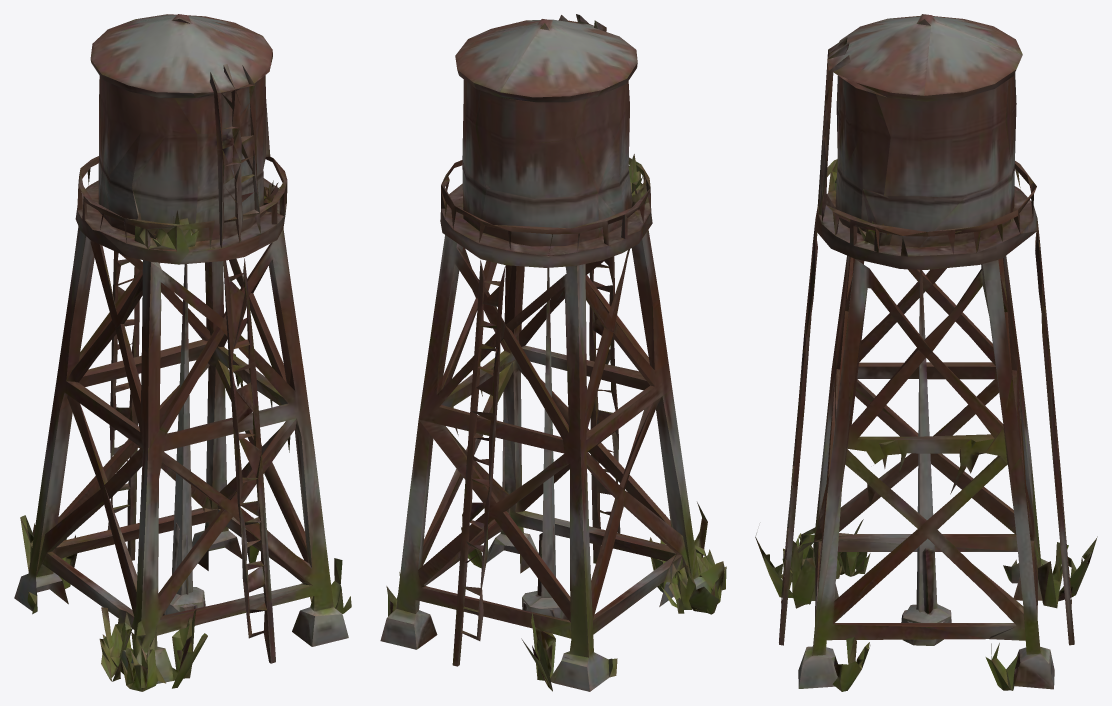
The model's file is prop_tower.glb.
The picture shows the model from 3 angles, left to right: view 1: azimuth 30°, elevation 25°; view 2: azimuth 150°, elevation 25°; view 3: azimuth 270°, elevation 25°; orthographic projection. The views are drawn at different scales.
Size of the model in its own units: 0.8321 by 1.89 by 0.946.
1 material, 1 textured.
